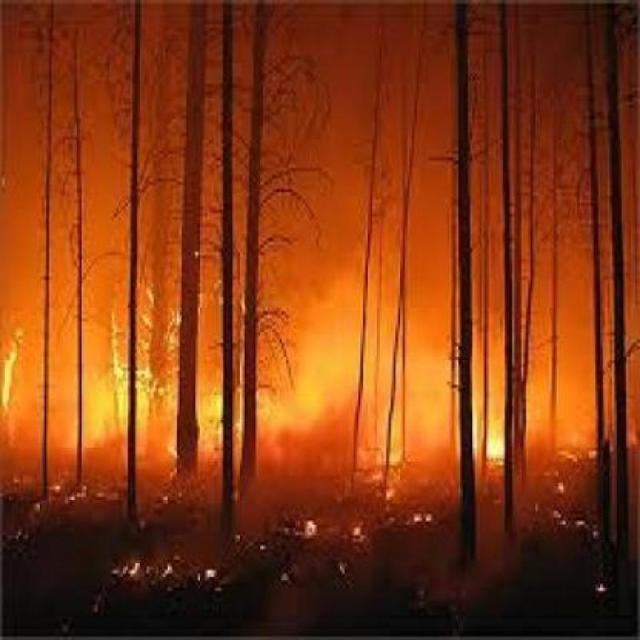Fire: (0, 288, 640, 586)
